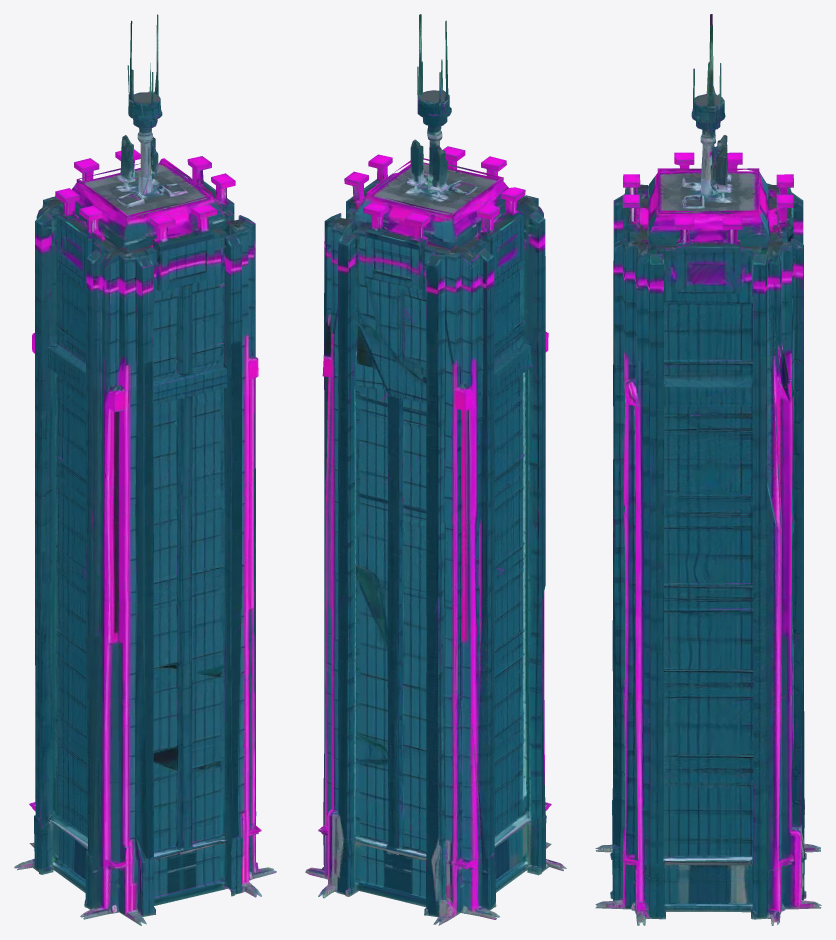
Rendered from building-tower.glb.
3 renders of one model, left to right at view 1: azimuth 30°, elevation 25°; view 2: azimuth 150°, elevation 25°; view 3: azimuth 270°, elevation 25°, orthographic.
Size of the model in its own units: 0.4503 by 1.9 by 0.4536.
1 material, 1 textured.
